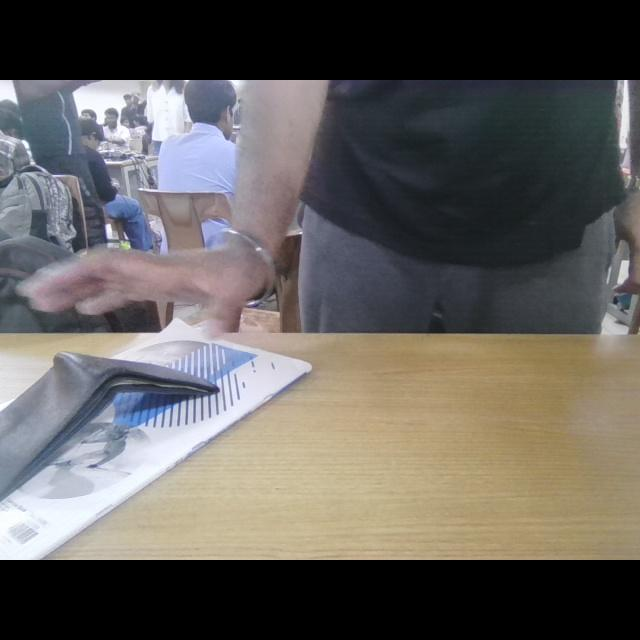wallet: (0, 331, 234, 501)
